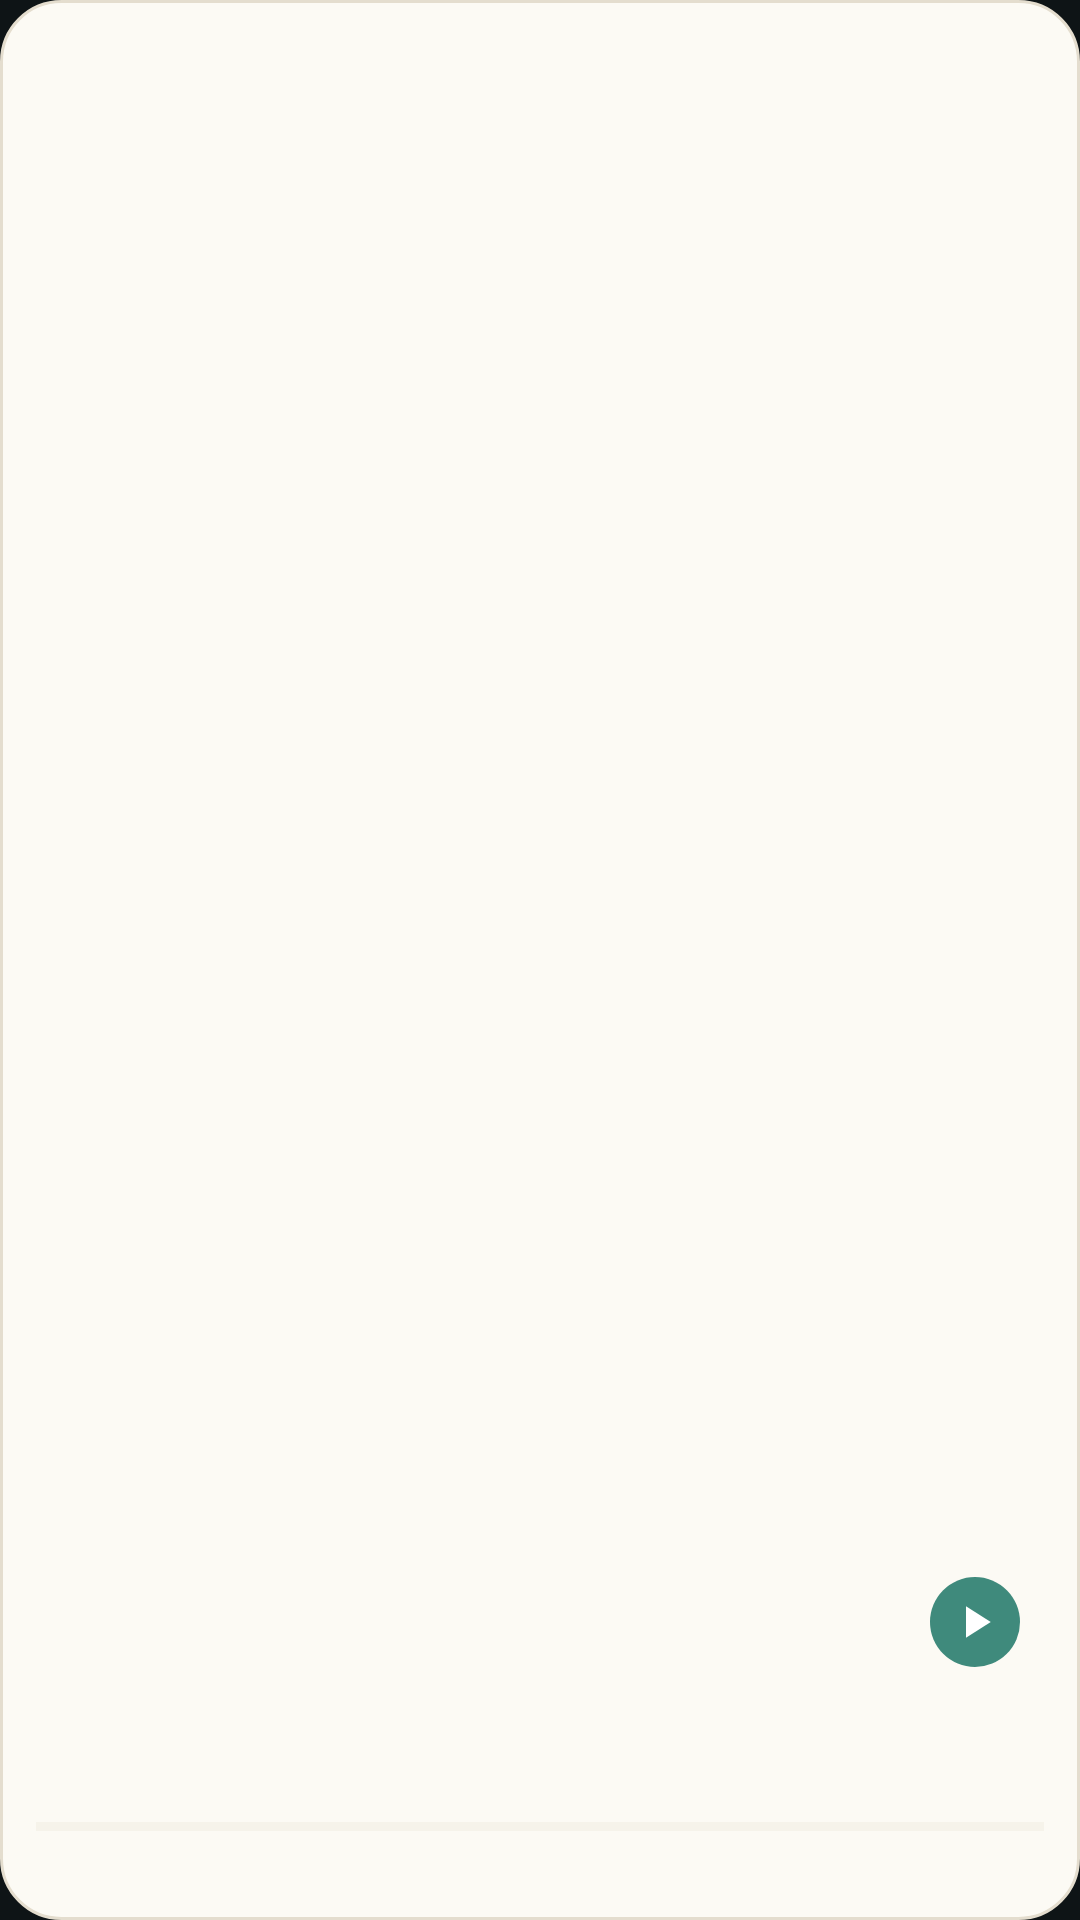

Where to tap for icons on this 1080px x 1920px app screen, as (x,y):
播放: (975,1622)
